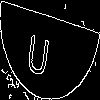U: (25, 24, 52, 78)
